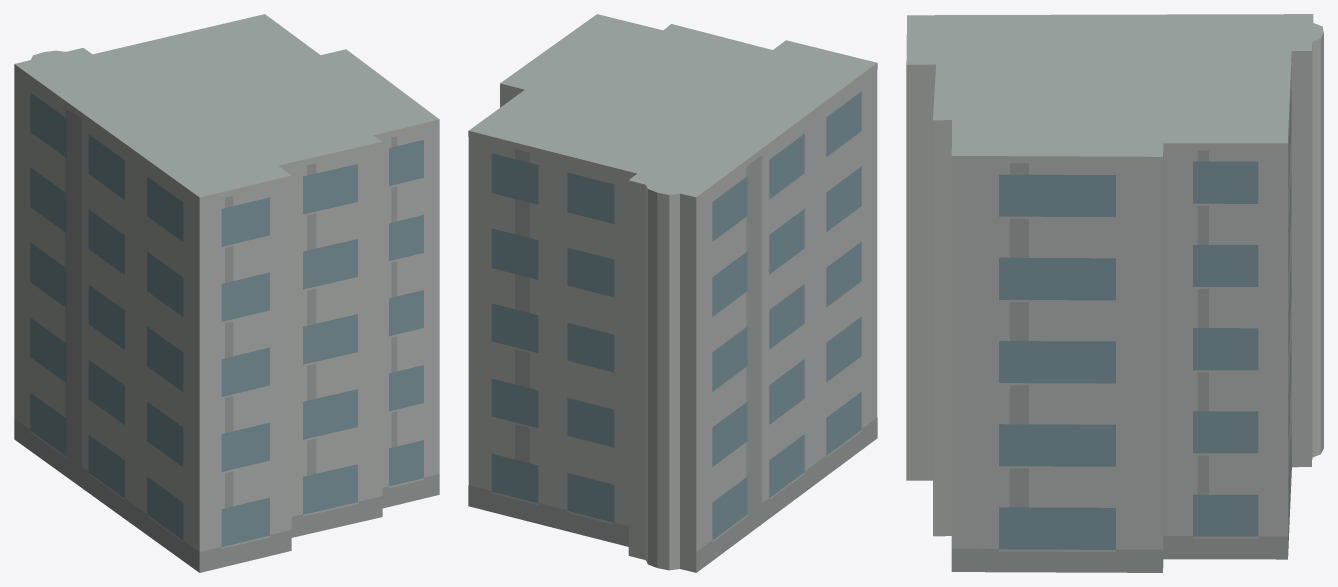
The model's file is survey-upis-32824408.glb.
3 renders of one model, left to right at view 1: azimuth 30°, elevation 25°; view 2: azimuth 150°, elevation 25°; view 3: azimuth 270°, elevation 25°, orthographic. The views are drawn at different scales.
Parts seen in each view (by area): view 1: survey-upis-32824408.tmp; view 2: survey-upis-32824408.tmp; view 3: survey-upis-32824408.tmp.
Boxes of the visible parts, box(x1,y1,x2,y2) form: survey-upis-32824408.tmp: box(14, 14, 439, 572); survey-upis-32824408.tmp: box(468, 14, 877, 572); survey-upis-32824408.tmp: box(906, 14, 1323, 572).
Size of the model in its own units: 10.54 by 14.3 by 13.01.
